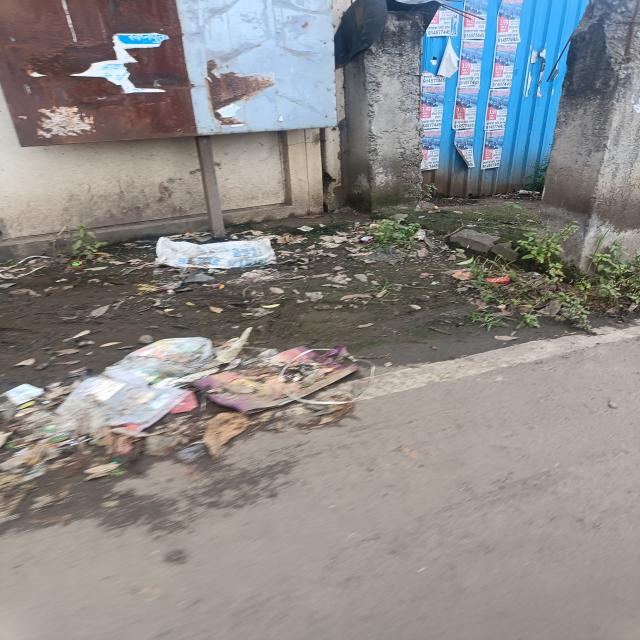garbage: (5, 324, 355, 496), (150, 229, 300, 286)
